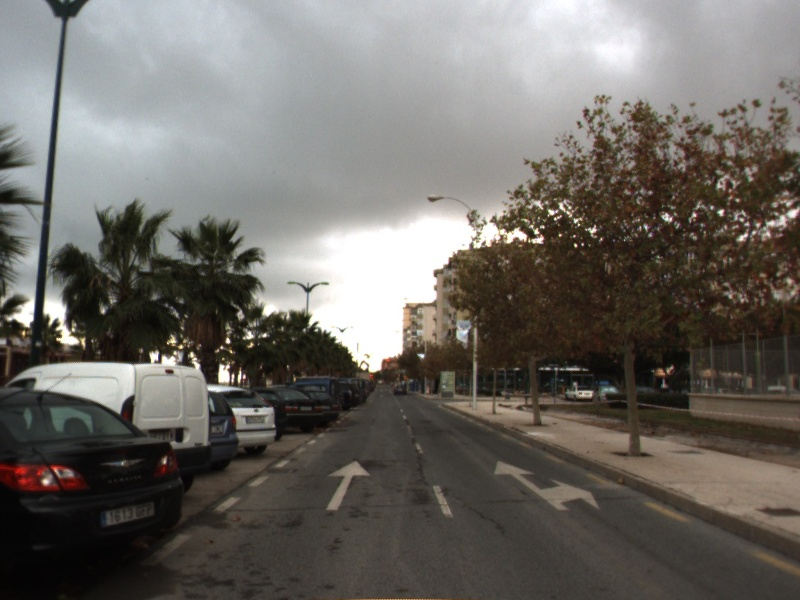STRAIGHT: (324, 459, 373, 512)
STRAIGHT_RIGHT: (493, 459, 601, 512)
